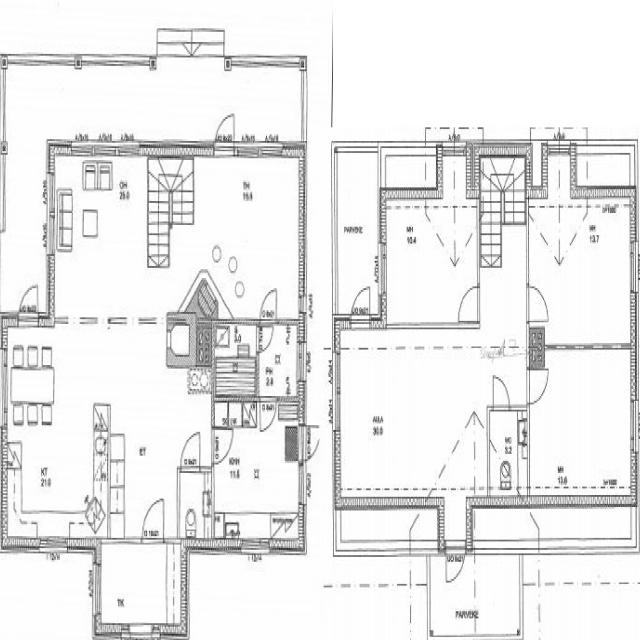door: (141, 498, 163, 545), (215, 106, 234, 158), (19, 278, 38, 327), (299, 426, 325, 461), (181, 432, 200, 473), (212, 431, 234, 466), (459, 288, 480, 322), (527, 288, 548, 322), (526, 372, 546, 405), (260, 397, 277, 434), (260, 288, 276, 326), (493, 378, 509, 411), (256, 328, 273, 353), (130, 624, 152, 640)
